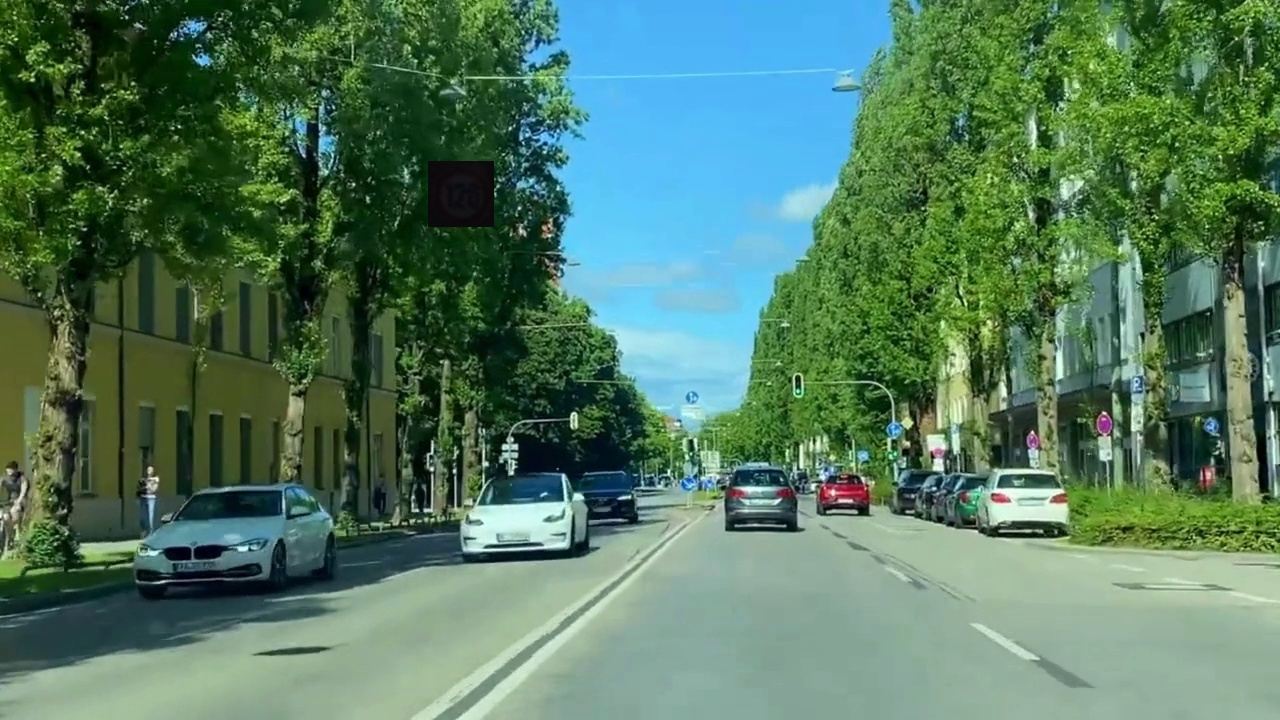Speed 120: (428, 161, 494, 227)
